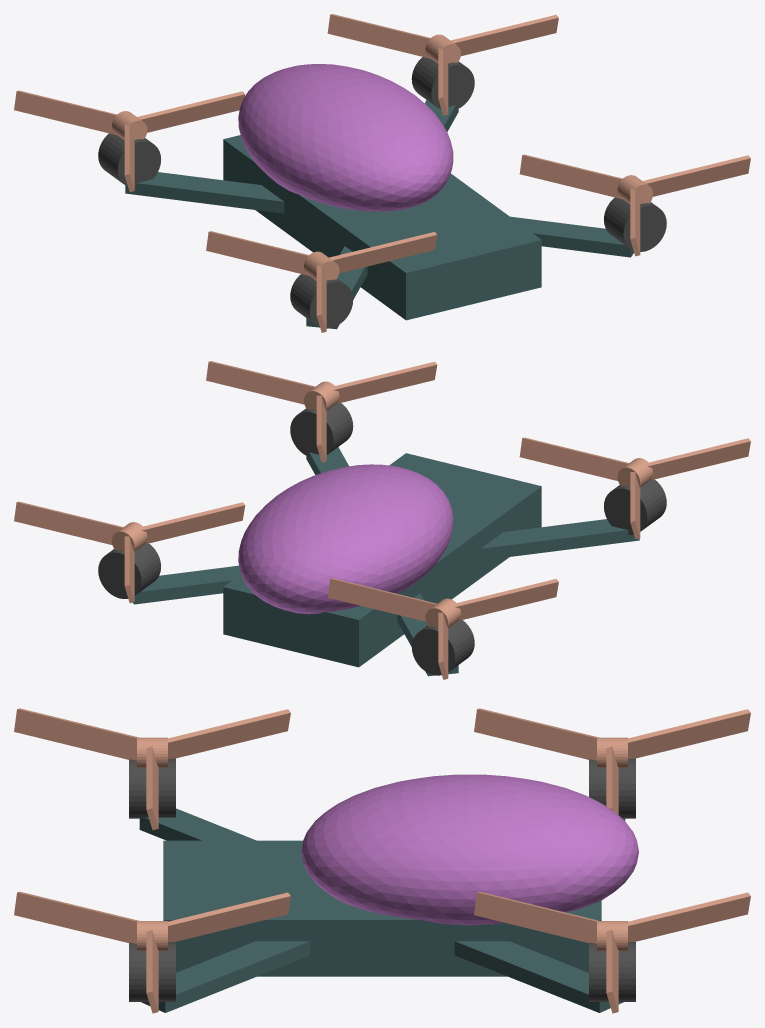
Rendered from Chief.glb.
3 renders of one model, top to bottom at view 1: azimuth 30°, elevation 25°; view 2: azimuth 150°, elevation 25°; view 3: azimuth 270°, elevation 25°, orthographic. The views are drawn at different scales.
Visible parts, largest first — view 1: canopy, frame_body, prop_1, prop_0, prop_2, prop_3, arm_3, arm_0, motor_2, motor_0, motor_1, motor_3 (+1 smaller); view 2: canopy, frame_body, prop_3, prop_2, prop_0, prop_1, arm_2, arm_1, motor_1, motor_3, motor_0, motor_2 (+2 smaller); view 3: canopy, frame_body, prop_2, prop_1, prop_0, prop_3, arm_1, arm_0, arm_2, motor_0, motor_1, motor_2 (+1 smaller).
Boxes of the visible parts, x1,y1,x2,y2 form: canopy: [238, 64, 453, 211]; frame_body: [223, 135, 541, 320]; prop_1: [327, 14, 558, 115]; prop_0: [519, 154, 750, 256]; prop_2: [206, 231, 437, 332]; prop_3: [14, 90, 245, 192]; arm_3: [125, 172, 284, 213]; arm_0: [510, 216, 634, 257]; motor_2: [290, 274, 353, 328]; motor_0: [604, 197, 666, 251]; motor_1: [411, 57, 474, 109]; motor_3: [98, 133, 160, 187]; canopy: [238, 464, 453, 614]; frame_body: [223, 453, 541, 667]; prop_3: [327, 578, 558, 679]; prop_2: [519, 437, 750, 539]; prop_0: [206, 361, 437, 462]; prop_1: [14, 501, 245, 603]; arm_2: [480, 519, 639, 560]; arm_1: [133, 565, 240, 604]; motor_1: [98, 543, 160, 598]; motor_3: [411, 620, 474, 675]; motor_0: [290, 403, 353, 456]; motor_2: [604, 479, 666, 534]; canopy: [301, 774, 638, 925]; frame_body: [163, 840, 601, 976]; prop_2: [14, 708, 290, 830]; prop_1: [474, 891, 750, 1013]; prop_0: [14, 891, 290, 1013]; prop_3: [474, 708, 750, 814]; arm_1: [454, 941, 623, 1012]; arm_0: [141, 941, 310, 1012]; arm_2: [139, 808, 256, 840]; motor_0: [129, 942, 175, 1001]; motor_1: [589, 942, 635, 1001]; motor_2: [129, 758, 175, 818].
Size of the model in its own units: 0.2153 by 0.0516 by 0.2355.
